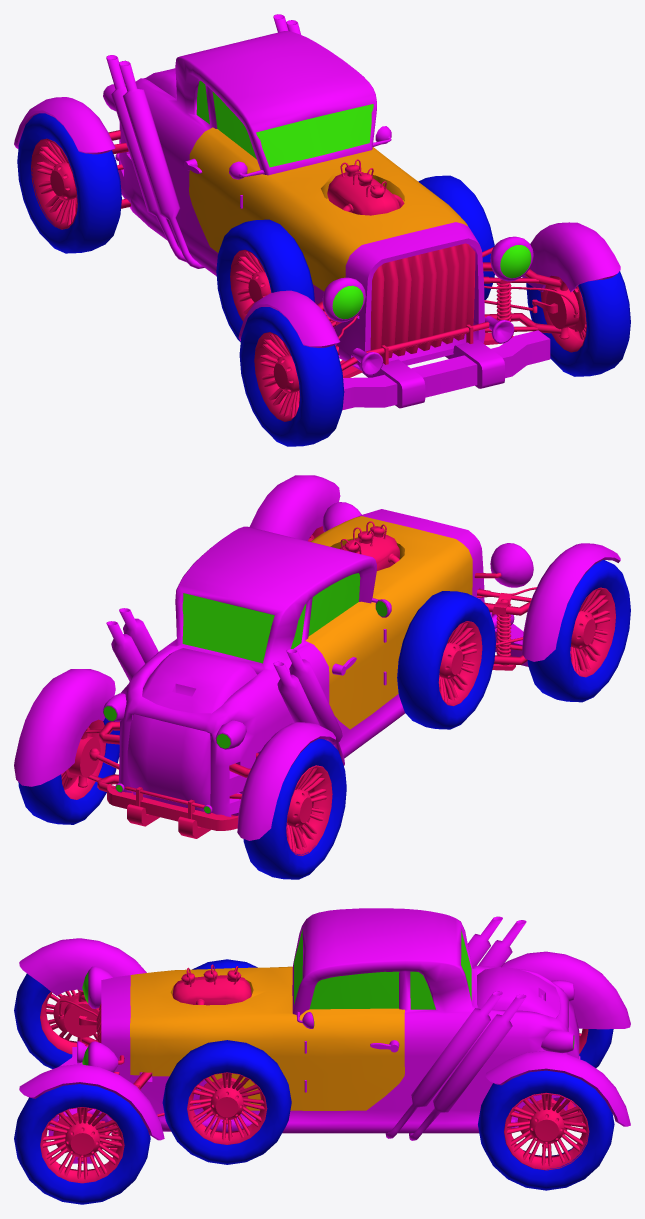
The model's file is gudianpaoche.fbx.
The picture shows the model from 3 angles, top to bottom: view 1: azimuth 30°, elevation 25°; view 2: azimuth 150°, elevation 25°; view 3: azimuth 270°, elevation 25°; orthographic projection. The views are drawn at different scales.
Visible parts, largest first — view 1: gudianpaoche_jinshu_1, chetai_l, gudianpaoche_jinshu_2, gudianpaoche_cheqi, guodianpaoche_boli; view 2: gudianpaoche_jinshu_1, chetai_l, gudianpaoche_jinshu_2, gudianpaoche_cheqi, guodianpaoche_boli; view 3: gudianpaoche_jinshu_1, chetai_l, gudianpaoche_cheqi, gudianpaoche_jinshu_2, guodianpaoche_boli.
Part boxes in pixels (x1,y1,x2,y2): gudianpaoche_jinshu_1: (14, 14, 620, 410); chetai_l: (17, 113, 630, 446); gudianpaoche_jinshu_2: (31, 130, 586, 421); gudianpaoche_cheqi: (189, 127, 467, 291); guodianpaoche_boli: (196, 80, 531, 319); gudianpaoche_jinshu_1: (14, 475, 620, 840); chetai_l: (18, 560, 630, 879); gudianpaoche_jinshu_2: (61, 521, 615, 855); gudianpaoche_cheqi: (305, 516, 472, 729); guodianpaoche_boli: (103, 573, 387, 813); gudianpaoche_jinshu_1: (19, 908, 630, 1163); chetai_l: (14, 959, 614, 1204); gudianpaoche_cheqi: (130, 966, 404, 1110); gudianpaoche_jinshu_2: (40, 964, 589, 1183); guodianpaoche_boli: (82, 929, 574, 1065).
Size of the model in its own units: 272 by 176 by 486.
